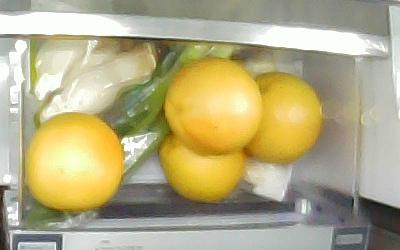grapefruit: (162, 56, 263, 154), (25, 110, 123, 210), (242, 70, 323, 163), (157, 131, 247, 202)
